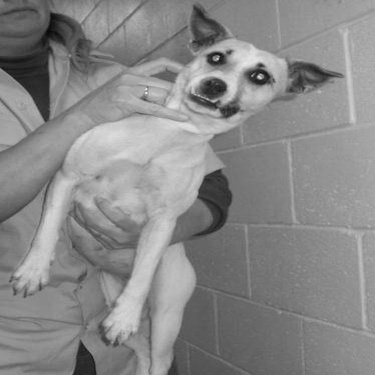dog: (5, 1, 353, 373)
